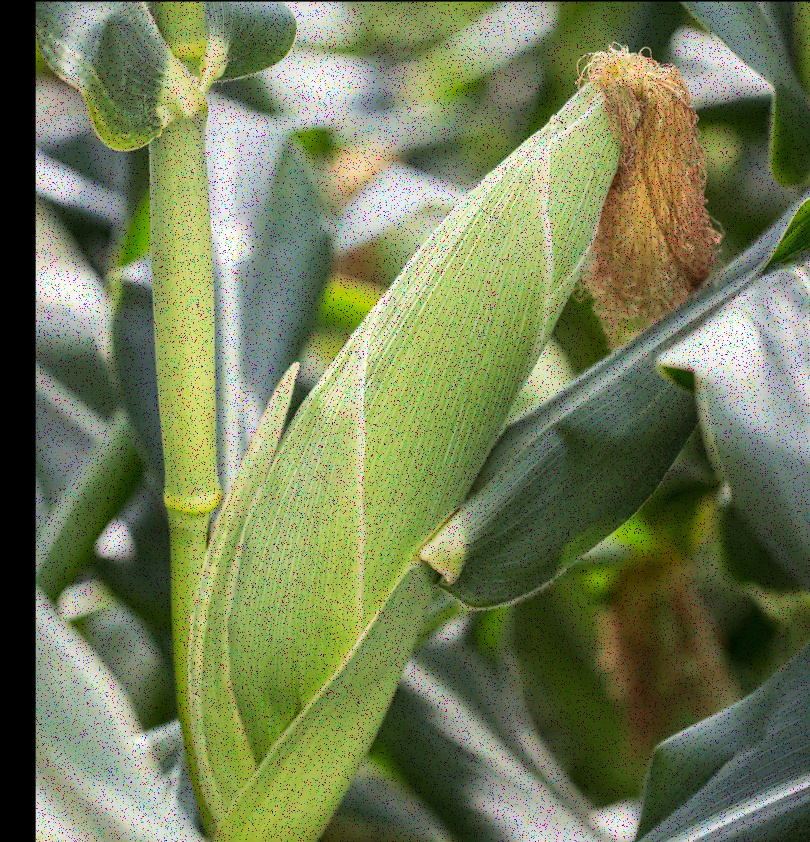corn_plant: (184, 25, 723, 816)
